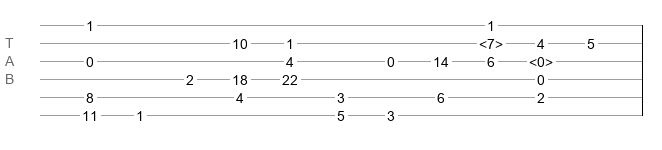0: (86, 54, 94, 64), (387, 54, 395, 64), (537, 72, 545, 82)
1: (86, 18, 94, 28), (136, 108, 144, 118), (286, 36, 294, 46), (487, 18, 495, 28)
10: (232, 36, 248, 46)
11: (82, 108, 98, 118)
14: (433, 54, 449, 64)
18: (232, 72, 248, 82)
2: (186, 72, 194, 82), (537, 90, 545, 100)
22: (282, 72, 298, 82)
3: (337, 90, 345, 100), (387, 108, 395, 118)
4: (236, 90, 244, 100), (286, 54, 294, 64), (537, 36, 545, 46)
5: (337, 108, 345, 118), (587, 36, 595, 46)
6: (437, 90, 445, 100), (487, 54, 495, 64)
8: (86, 90, 94, 100)
harmonic: (479, 36, 503, 46), (529, 54, 553, 64)
